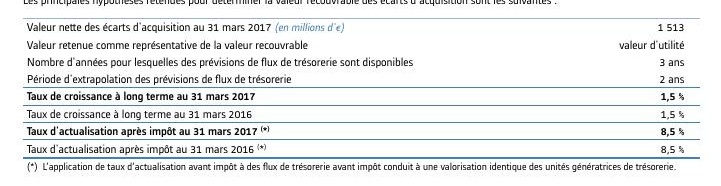table: (0, 0, 721, 186)
